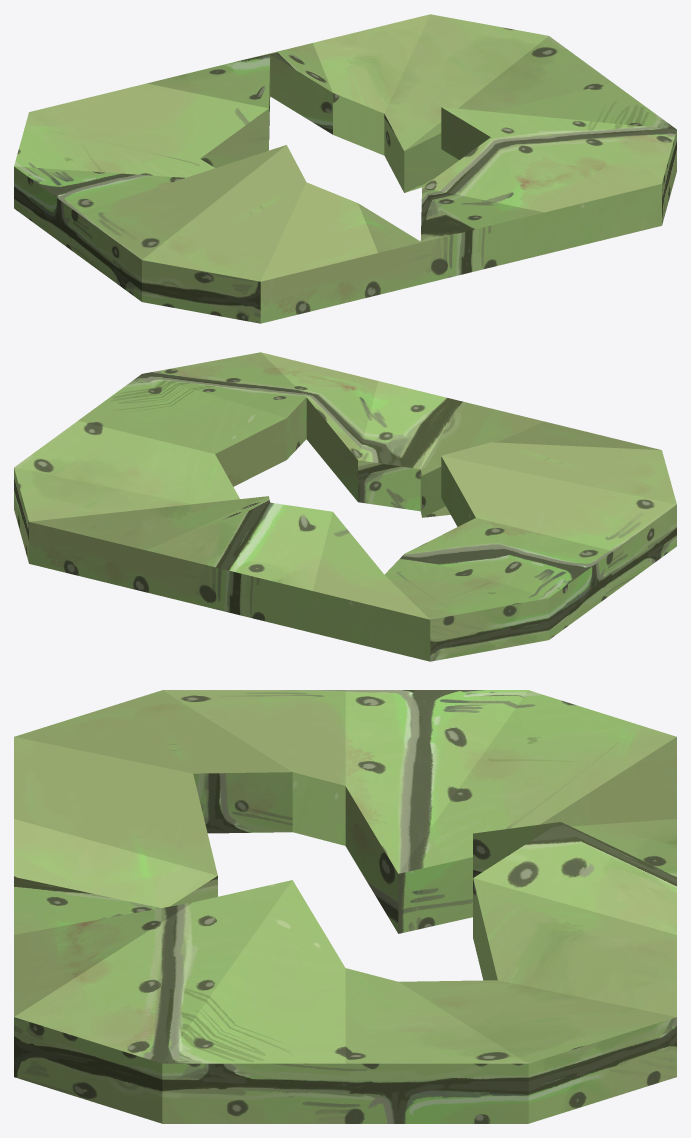
Rendered from R04_BANCO_GENETICO_Danado.obj.
3 views of the same model, one above another, from view 1: azimuth 30°, elevation 25°; view 2: azimuth 150°, elevation 25°; view 3: azimuth 270°, elevation 25° (orthographic). The views are drawn at different scales.
Parts seen in each view (by area): view 1: R04_BANCO_GENETICO_Danado__Danado_R04_BANCO_GENETICO_01; view 2: R04_BANCO_GENETICO_Danado__Danado_R04_BANCO_GENETICO_01; view 3: R04_BANCO_GENETICO_Danado__Danado_R04_BANCO_GENETICO_01.
Part boxes in pixels (x1,y1,x2,y2): R04_BANCO_GENETICO_Danado__Danado_R04_BANCO_GENETICO_01: (14, 14, 676, 323); R04_BANCO_GENETICO_Danado__Danado_R04_BANCO_GENETICO_01: (14, 352, 676, 661); R04_BANCO_GENETICO_Danado__Danado_R04_BANCO_GENETICO_01: (14, 690, 676, 1123).
Size of the model in its own units: 0.8 by 0.17 by 0.6.
1 material, 1 textured.
